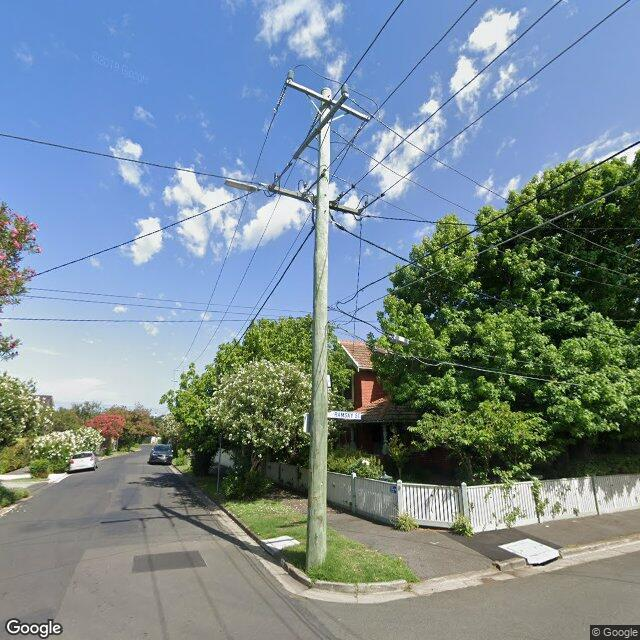HV-transmission: (287, 69, 348, 95)
crossarm: (293, 94, 349, 160), (286, 79, 370, 122), (269, 185, 360, 215)
streetlight: (224, 179, 270, 193)
timber-pole: (305, 87, 332, 574)
